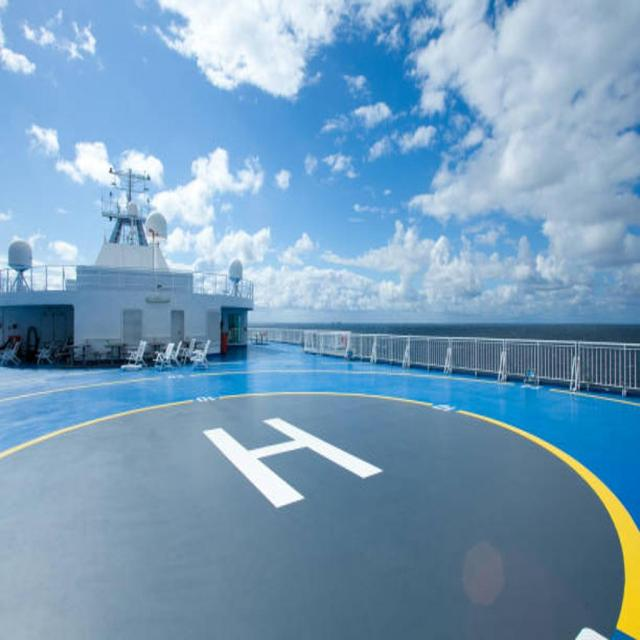helipad: (0, 389, 639, 639)
